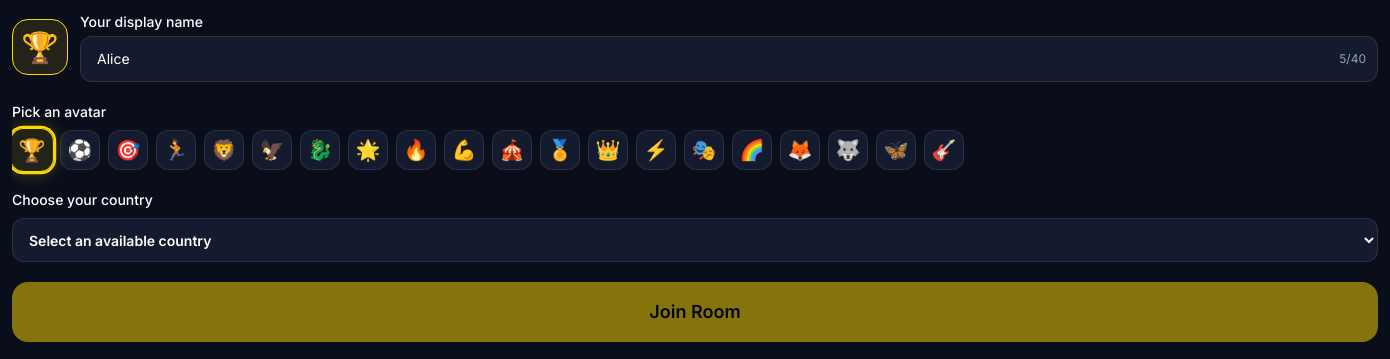
it: JoinRoomForm › requires an available country in player-choice mode
The image size is (1390, 359).
Expected: the button with test id "join-room-submit" is disabled, x1=12 y1=282 x2=1378 y2=342
Select "🇦🇷 Argentina" in the dropdown labelled "Choose your country" at (695, 240), box x1=12 y1=218 x2=1378 y2=262
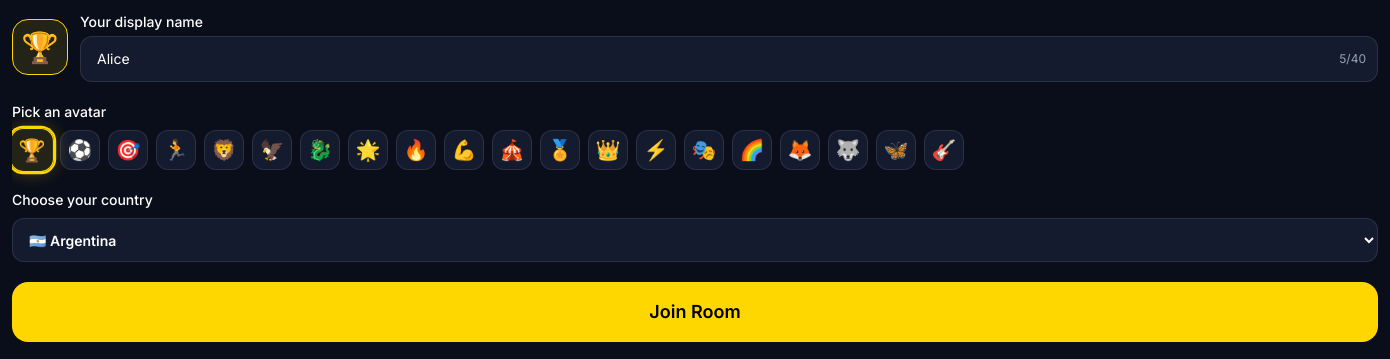
Expected: the button with test id "join-room-submit" is enabled, x1=12 y1=282 x2=1378 y2=342
